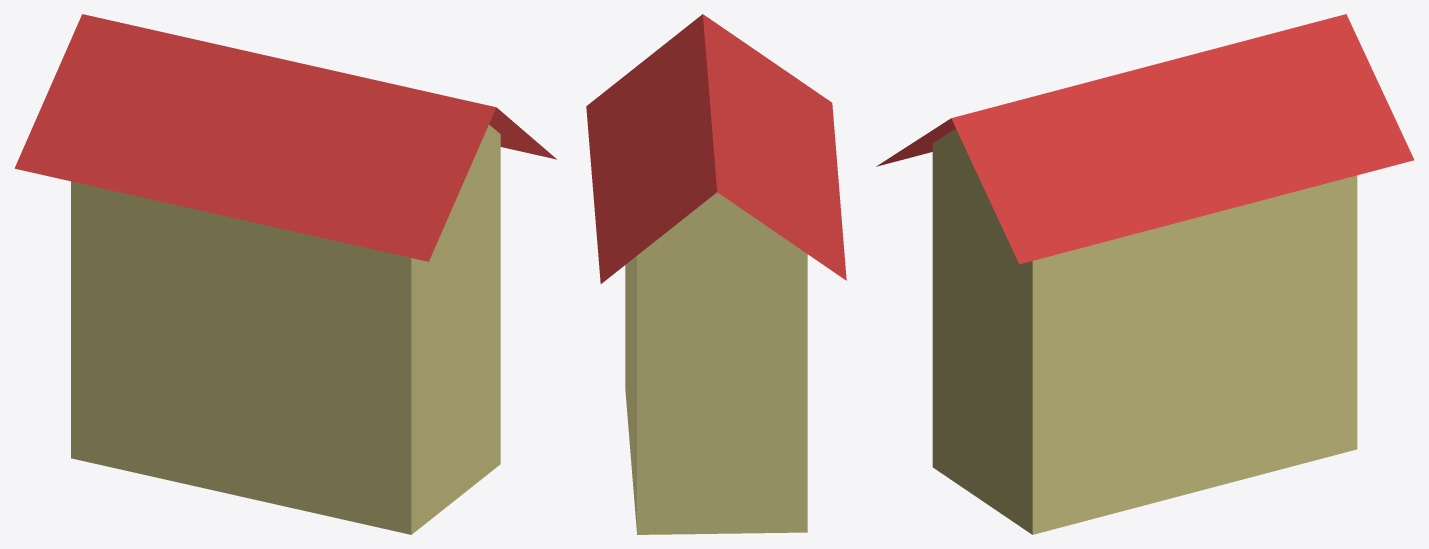
3 views of the same model, side by side, from view 1: azimuth 30°, elevation 25°; view 2: azimuth 150°, elevation 25°; view 3: azimuth 270°, elevation 25° (orthographic). The views are drawn at different scales.
Bounding box in the file's own units: 8.6 × 9.72 × 7.86.
